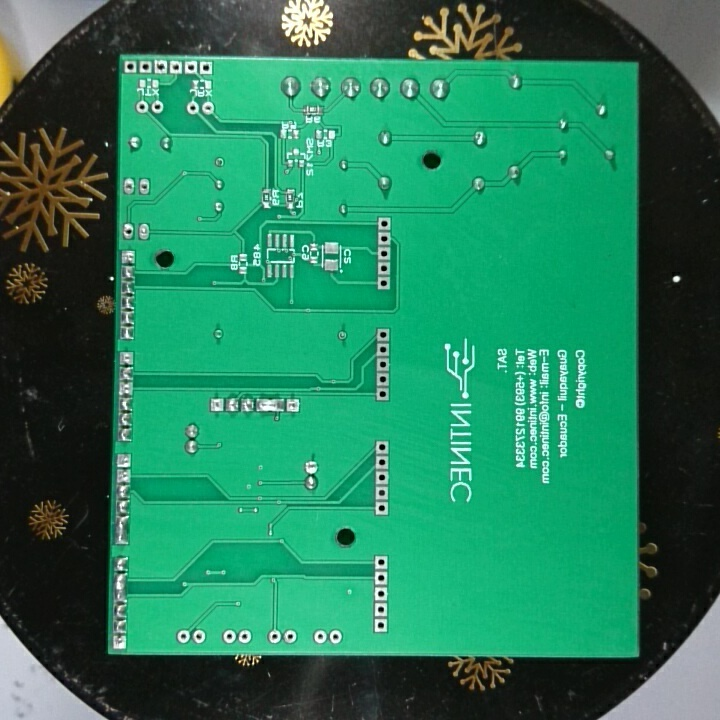F: (209, 398, 229, 418), (328, 627, 352, 643), (281, 625, 300, 644), (373, 370, 392, 389), (286, 395, 301, 417), (190, 628, 207, 646), (303, 458, 321, 475), (237, 627, 253, 646), (311, 627, 326, 647), (168, 59, 185, 76), (118, 380, 135, 397), (376, 275, 393, 292), (153, 58, 169, 76), (115, 468, 133, 484), (374, 439, 392, 455), (374, 355, 393, 370), (122, 221, 136, 241), (138, 220, 150, 243), (198, 59, 211, 80), (133, 98, 150, 114), (116, 451, 132, 468), (374, 500, 390, 517), (377, 215, 394, 231), (376, 231, 394, 246), (213, 155, 227, 174), (120, 351, 136, 367), (374, 486, 390, 502), (183, 60, 198, 77), (119, 249, 136, 264), (175, 629, 190, 646), (375, 569, 390, 586), (377, 326, 392, 343), (376, 260, 393, 275), (377, 244, 392, 261), (123, 60, 139, 75), (138, 60, 154, 75), (185, 100, 201, 115), (221, 629, 236, 645), (267, 628, 282, 644), (374, 469, 390, 484), (150, 98, 164, 115), (373, 587, 390, 601), (123, 177, 136, 195), (372, 602, 390, 615), (376, 386, 391, 401), (112, 635, 128, 649), (373, 618, 390, 631), (373, 555, 390, 568), (375, 455, 390, 469), (336, 328, 350, 343), (201, 98, 210, 117), (136, 178, 146, 195), (376, 343, 390, 354)
P: (256, 395, 284, 414), (114, 516, 131, 546), (113, 573, 129, 603)
